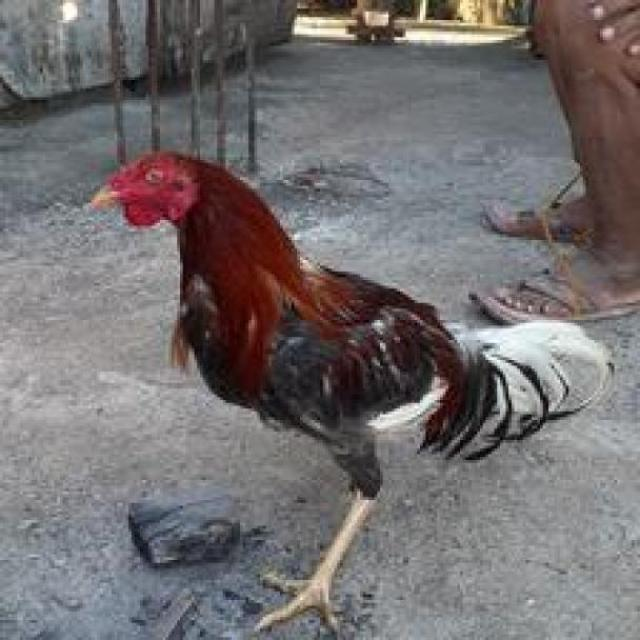Chicken: (99, 140, 566, 640)
